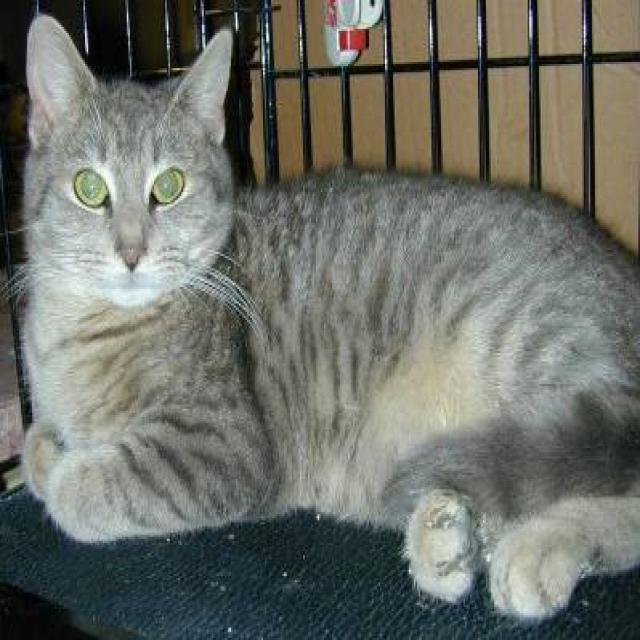cat: (1, 12, 638, 620)
